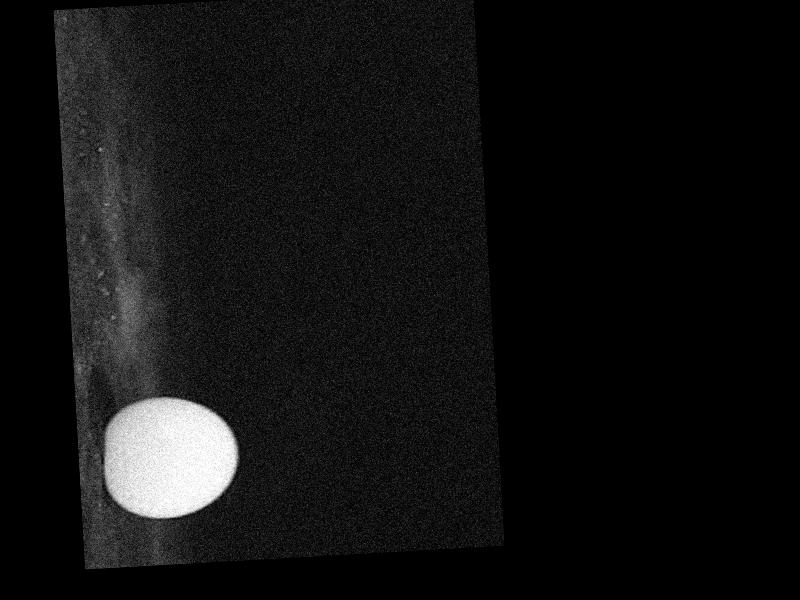Eggs: (102, 392, 241, 520)
